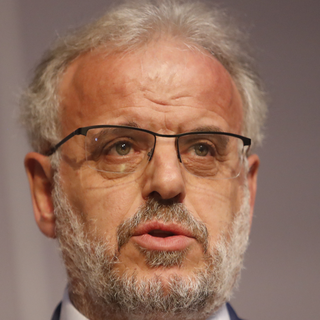eye: (178, 138, 222, 166), (97, 138, 144, 164)
